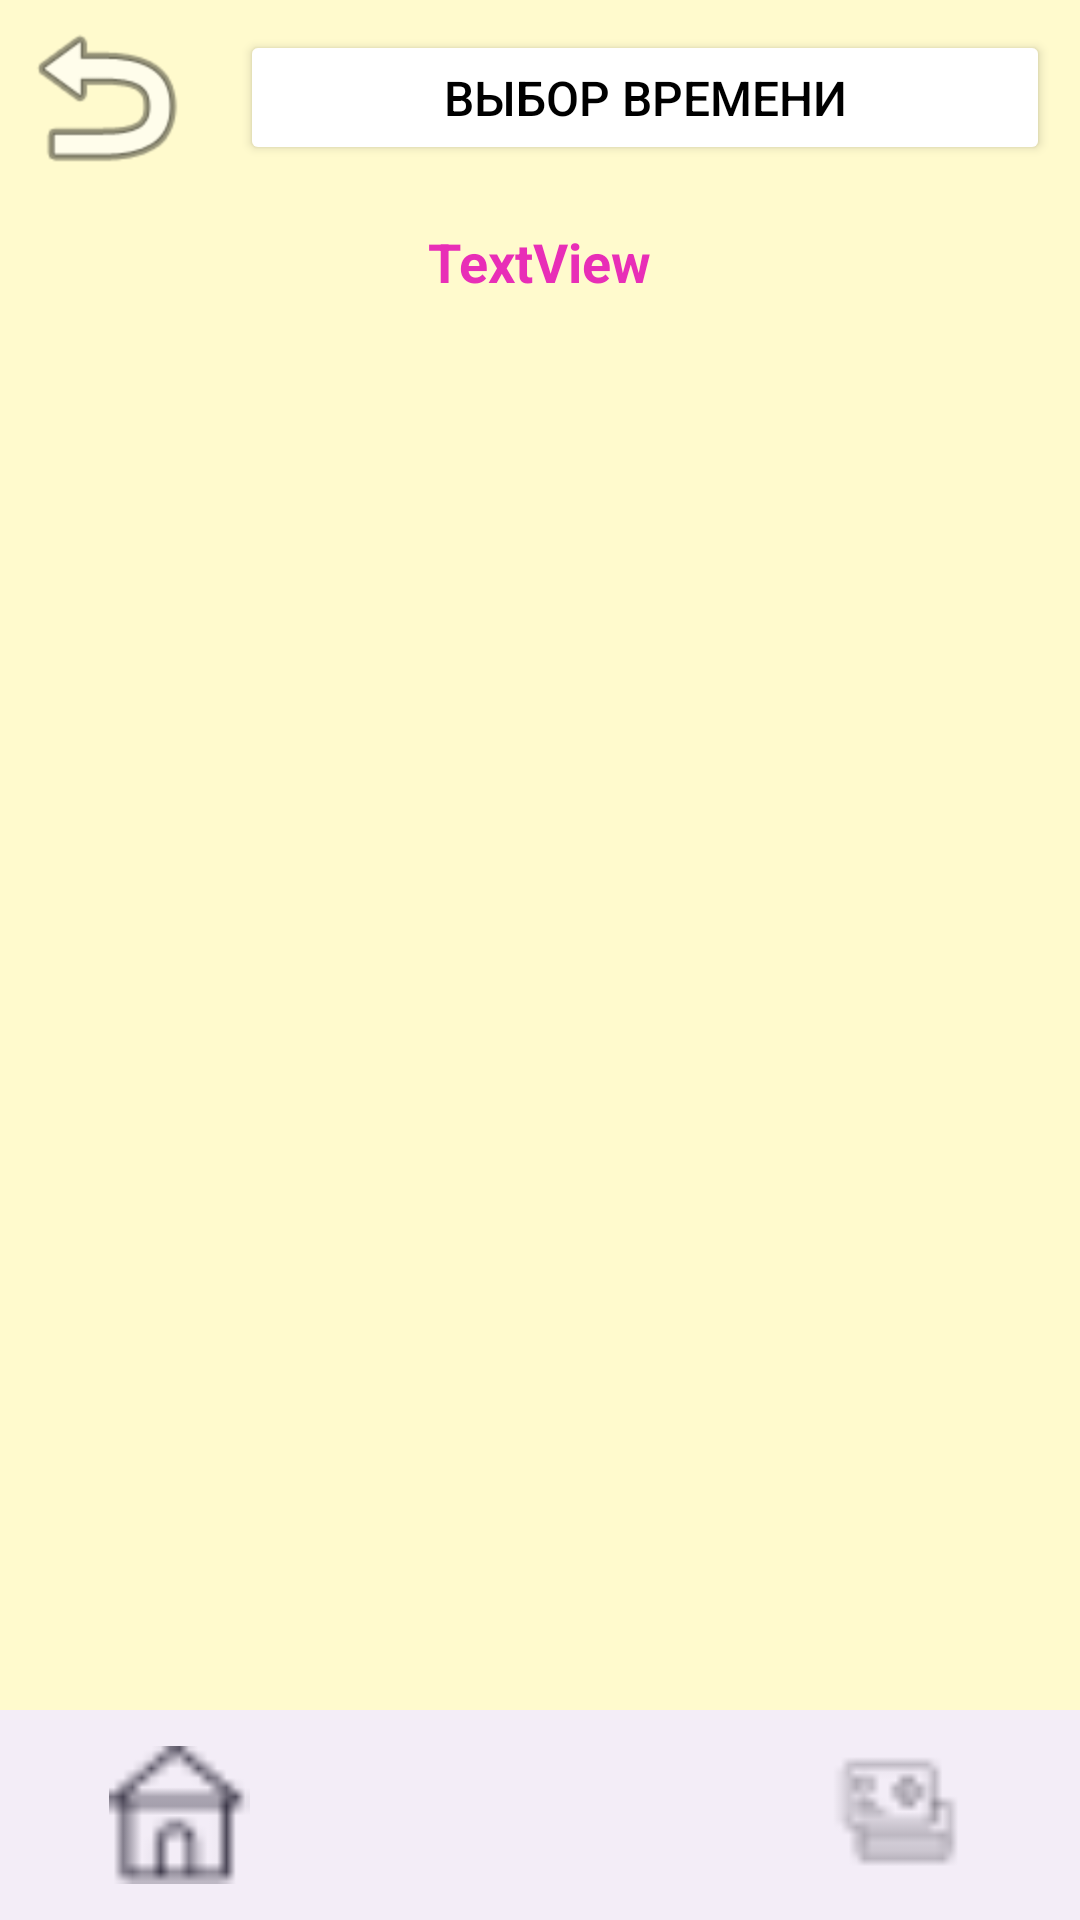

Named icons in this screenshot (1080x1920) and their centers, point (x, y):
revert: point (107, 98)
